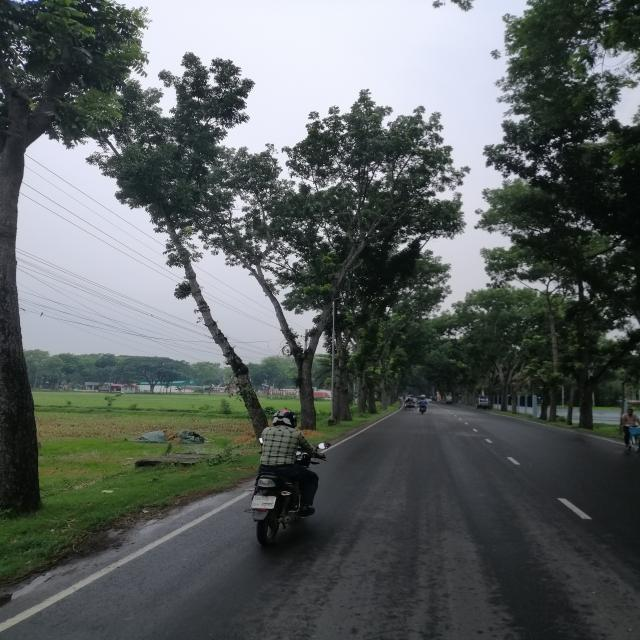Motorbike: (211, 432, 380, 550)
